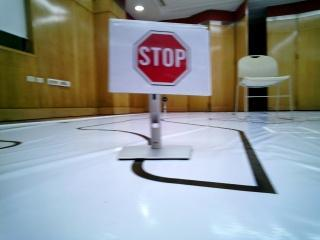stop: (122, 32, 205, 99)
